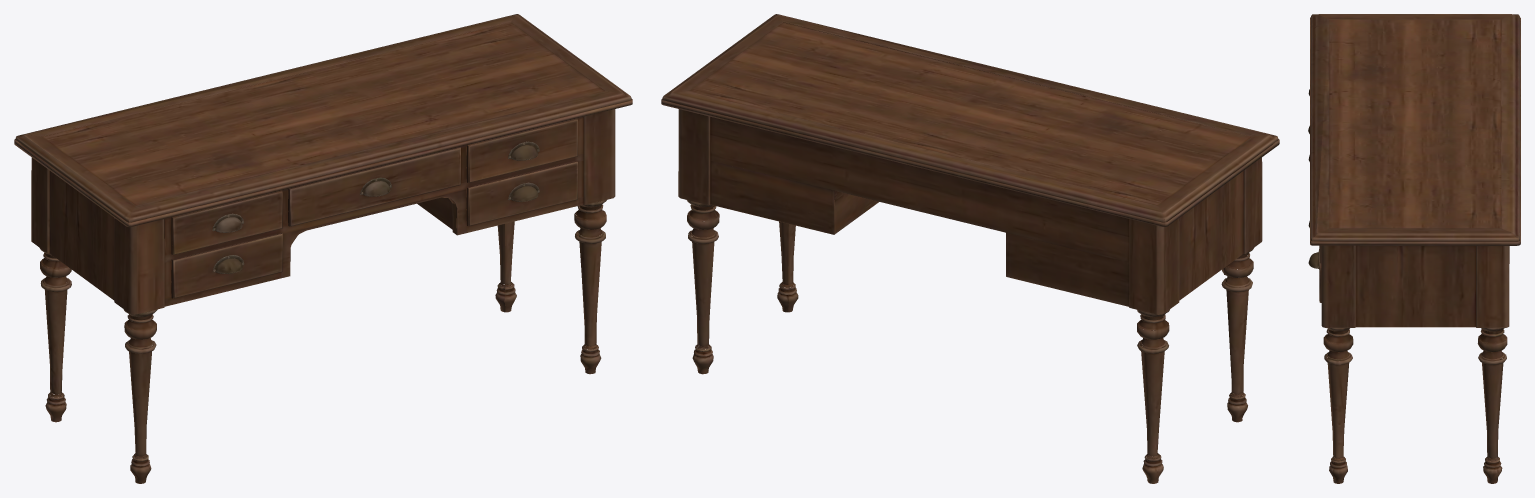
The model's file is vict_table.glb.
The picture shows the model from 3 angles, left to right: view 1: azimuth 30°, elevation 25°; view 2: azimuth 150°, elevation 25°; view 3: azimuth 270°, elevation 25°; orthographic projection. The views are drawn at different scales.
Visible parts, largest first — view 1: Cube_1__0; view 2: Cube_1__0; view 3: Cube_1__0.
Boxes of the visible parts, box(x1,y1,x2,y2) form: Cube_1__0: box(14, 14, 632, 483); Cube_1__0: box(661, 14, 1279, 483); Cube_1__0: box(1308, 14, 1520, 483).
Bounding box in the file's own units: 1.46 × 0.78 × 0.5832.
Materials: 1 (1 with a texture image).
